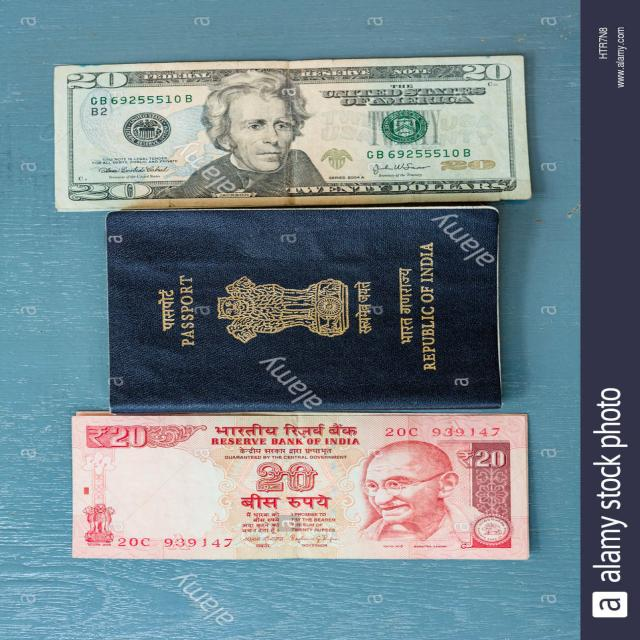20IndianRupees: (74, 416, 525, 560)
